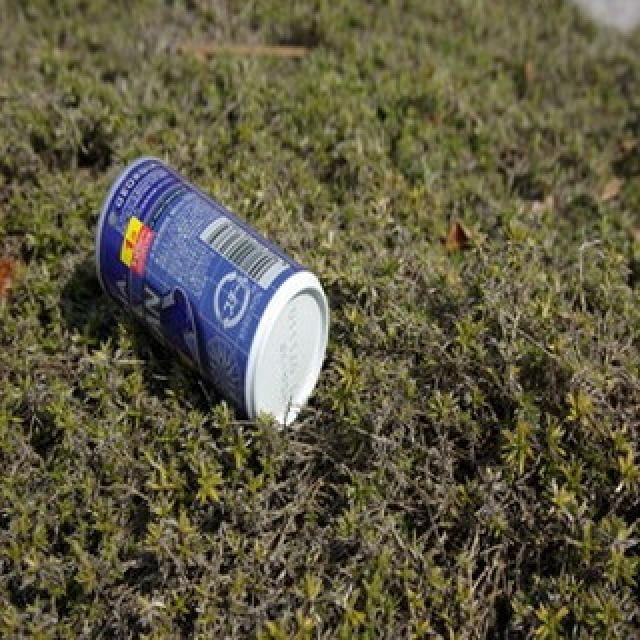can: (95, 154, 332, 426)
